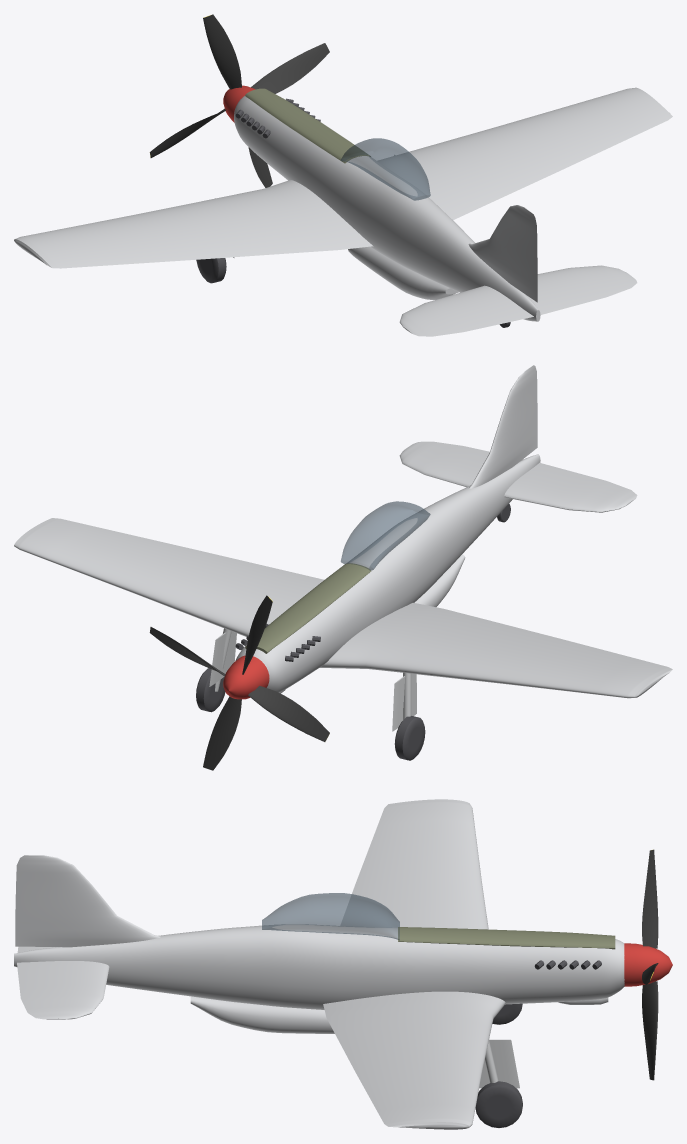
3 views of the same model, one above another, from view 1: azimuth 30°, elevation 25°; view 2: azimuth 150°, elevation 25°; view 3: azimuth 270°, elevation 25° (orthographic). The views are drawn at different scales.
Visible parts, largest first — view 1: Body, Prop, Canopy, AntiGlare, Detail, Spinner; view 2: Body, Prop, Canopy, AntiGlare, Detail, Gear, Spinner; view 3: Body, Canopy, AntiGlare, Prop, Detail, Spinner, Gear.
Part boxes in pixels (x1,y1,x2,y2): Body: [14, 87, 672, 336]; Prop: [150, 14, 329, 187]; Canopy: [341, 138, 430, 200]; AntiGlare: [245, 88, 370, 163]; Detail: [196, 98, 510, 327]; Spinner: [223, 85, 255, 122]; Body: [14, 365, 672, 698]; Prop: [149, 595, 329, 770]; Canopy: [341, 501, 430, 570]; AntiGlare: [245, 563, 371, 653]; Detail: [196, 503, 510, 760]; Gear: [209, 628, 416, 731]; Spinner: [223, 655, 269, 699]; Body: [14, 799, 624, 1129]; Canopy: [262, 893, 399, 940]; AntiGlare: [398, 927, 615, 949]; Prop: [642, 849, 658, 1080]; Detail: [475, 960, 601, 1127]; Spinner: [624, 943, 672, 986]; Gear: [479, 1039, 519, 1088].
Size of the model in its own units: 1128 by 356 by 970.
